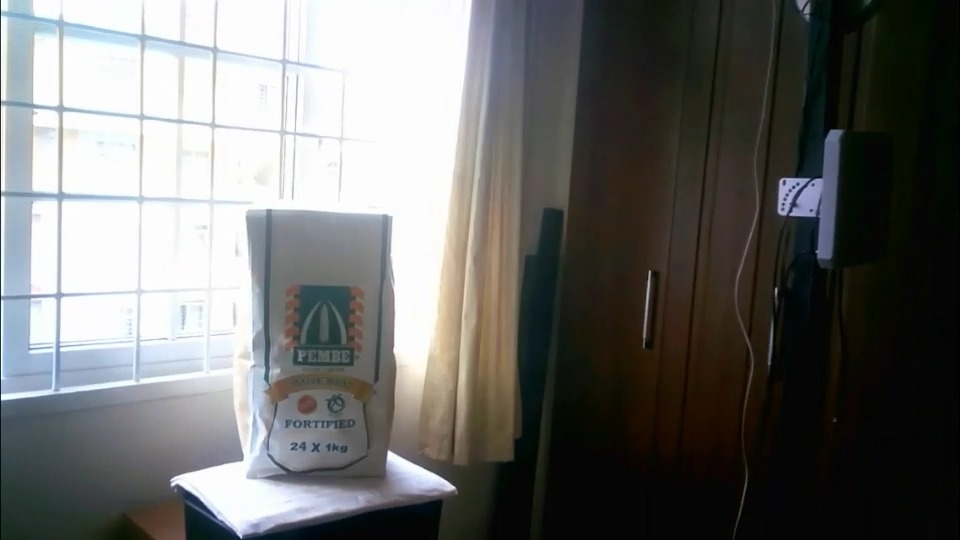maize_flour_green_label: (233, 203, 391, 474)
